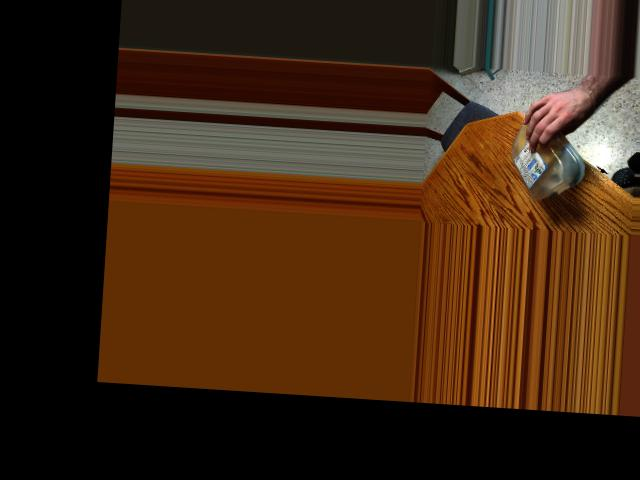cheese: (506, 104, 584, 204)
